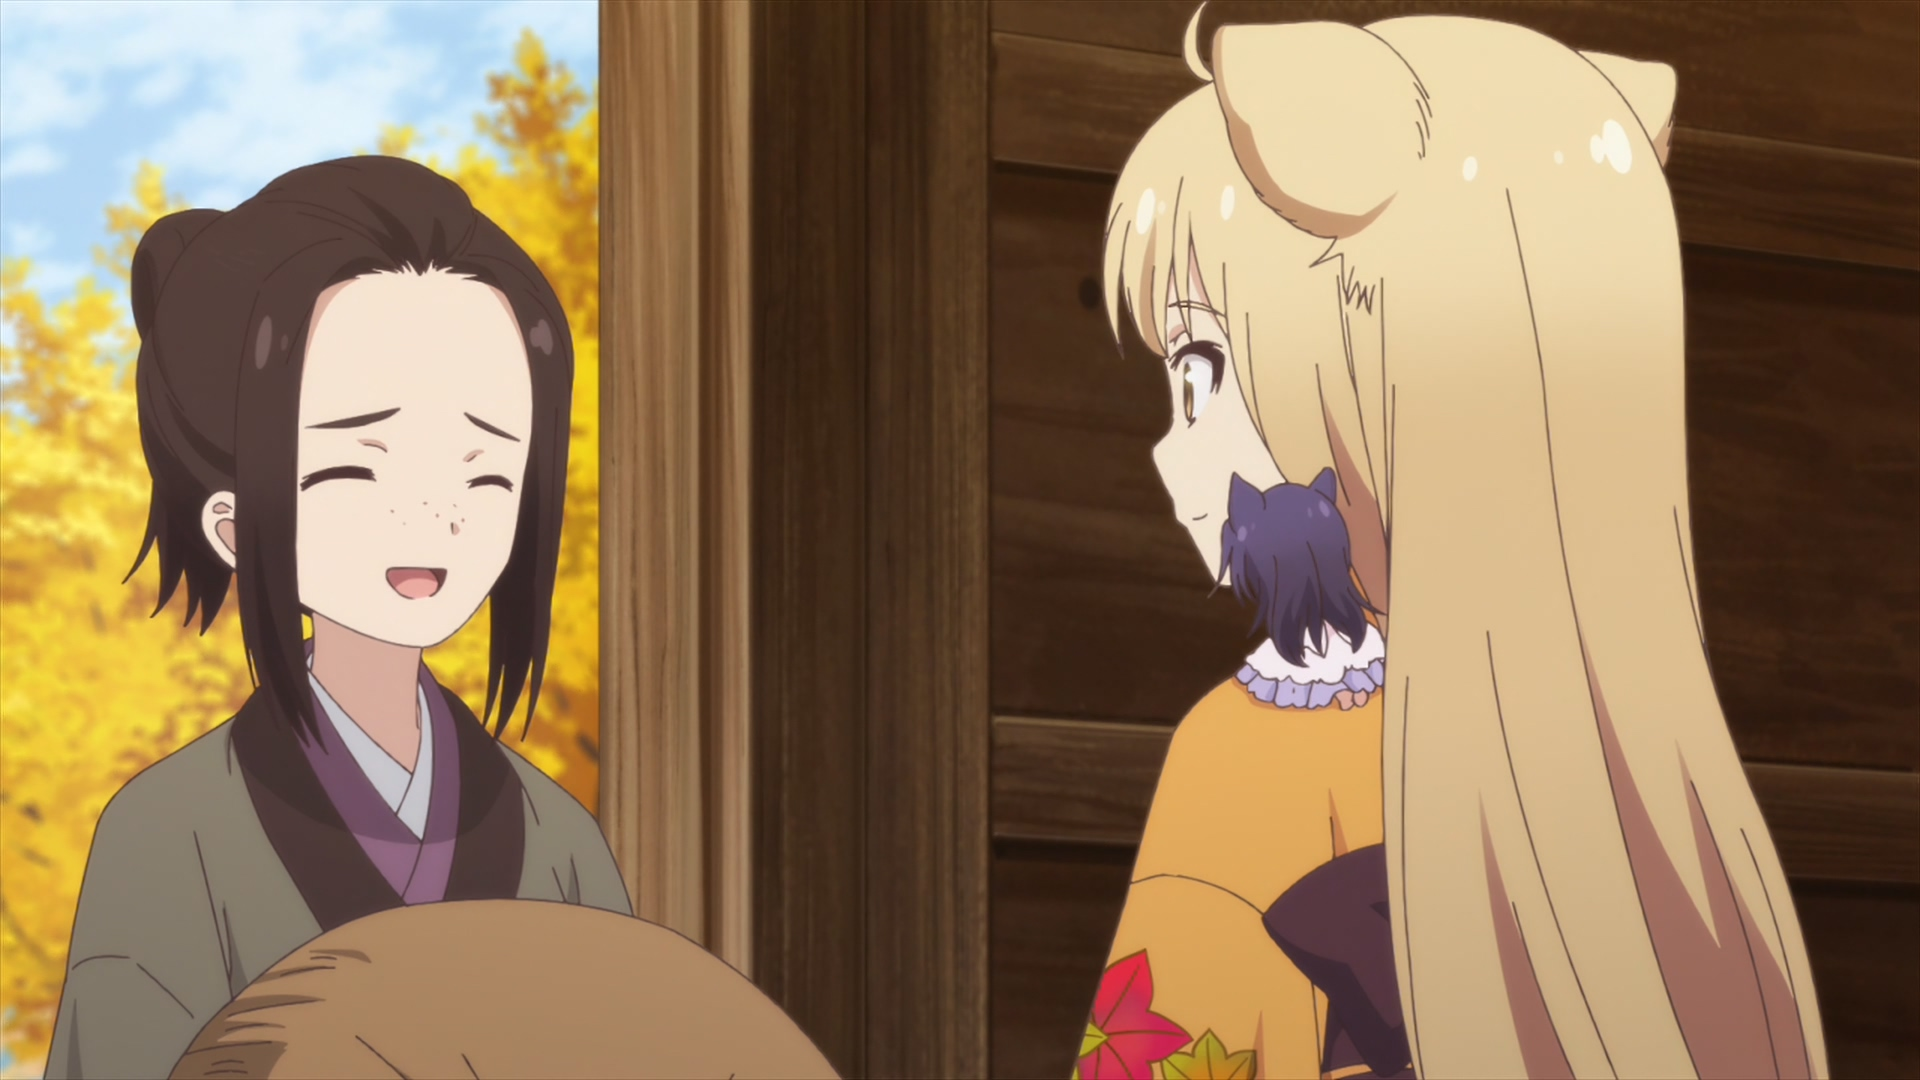其他: (41, 158, 637, 1080)
柚: (1064, 1, 1830, 1080)
皋: (1211, 471, 1386, 711)
